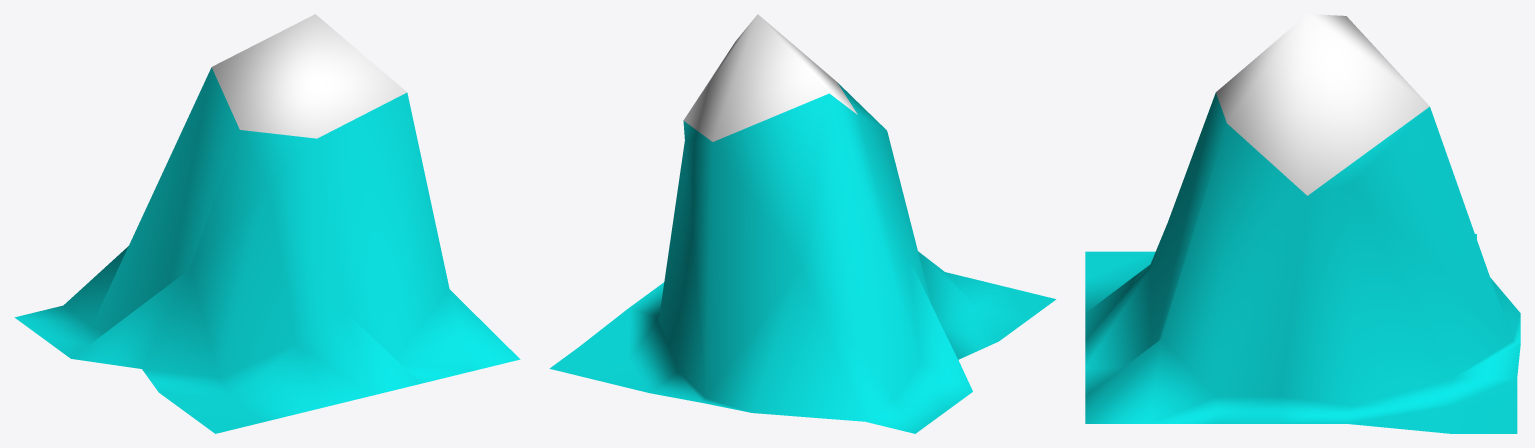
File: Terrain.fbx
3 renders of one model, left to right at view 1: azimuth 30°, elevation 25°; view 2: azimuth 150°, elevation 25°; view 3: azimuth 270°, elevation 25°, orthographic. The views are drawn at different scales.
Visible parts, largest first — view 1: Terrain; view 2: Terrain; view 3: Terrain.
Boxes of the visible parts, left/top/right/bottom form: Terrain: left=14, top=14, right=520, bottom=433; Terrain: left=549, top=14, right=1056, bottom=433; Terrain: left=1085, top=14, right=1520, bottom=433.
Bounding box in the file's own units: 59.94 × 51.8 × 57.43.
